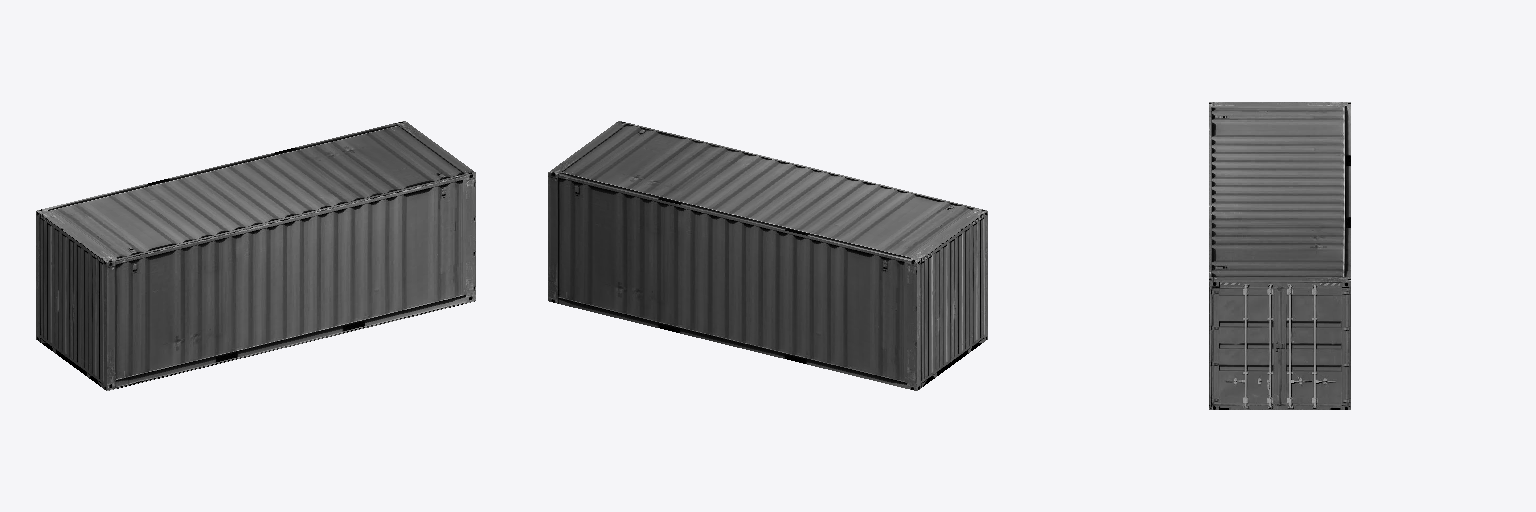
3 views of the same model, side by side, from view 1: azimuth 30°, elevation 25°; view 2: azimuth 150°, elevation 25°; view 3: azimuth 270°, elevation 25° (orthographic).
Parts seen in each view (by area): view 1: Container; view 2: Container; view 3: Container.
Part boxes in pixels (x1,y1,x2,y2): Container: (36,121,475,390); Container: (548,121,987,390); Container: (1209,102,1350,409).
Bounding box in the file's own units: 3 × 1 × 1.
Materials: 1 (1 with a texture image).